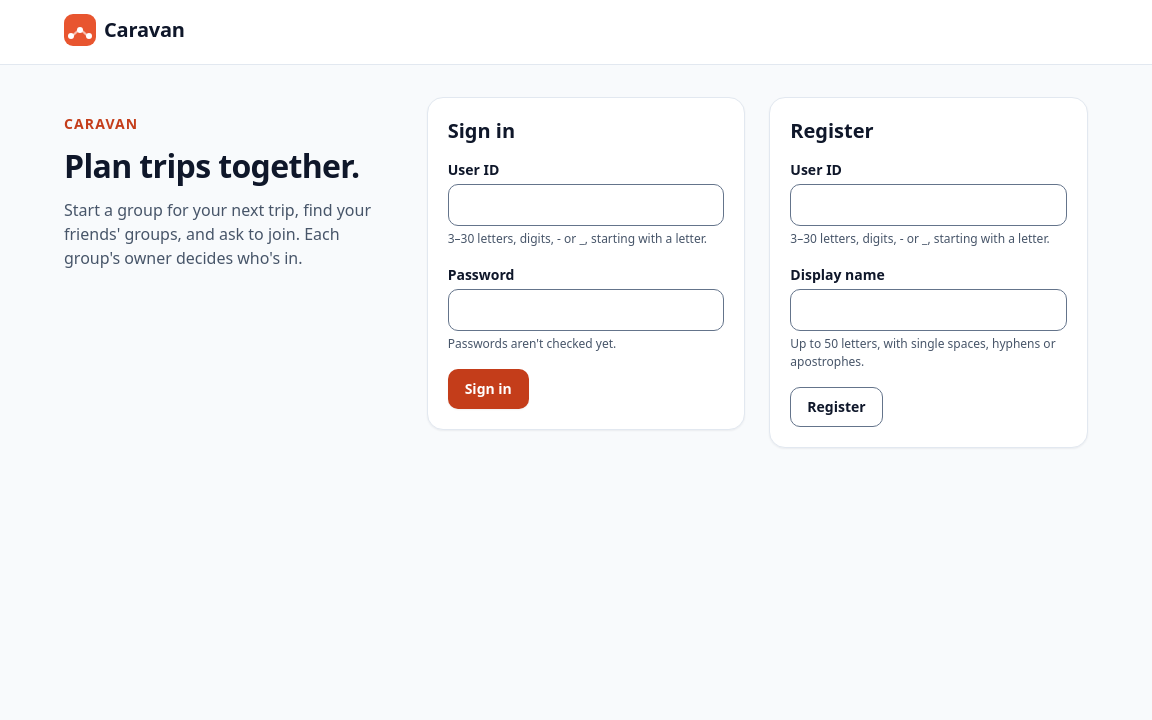
Test: registering › checks ada / R2D2 before sending
Expected: the heading "Sign in" is shown, [448, 117, 515, 144]
Type "ada" into the 2nd field labelled "User ID" at (929, 205), box [790, 184, 1067, 226]
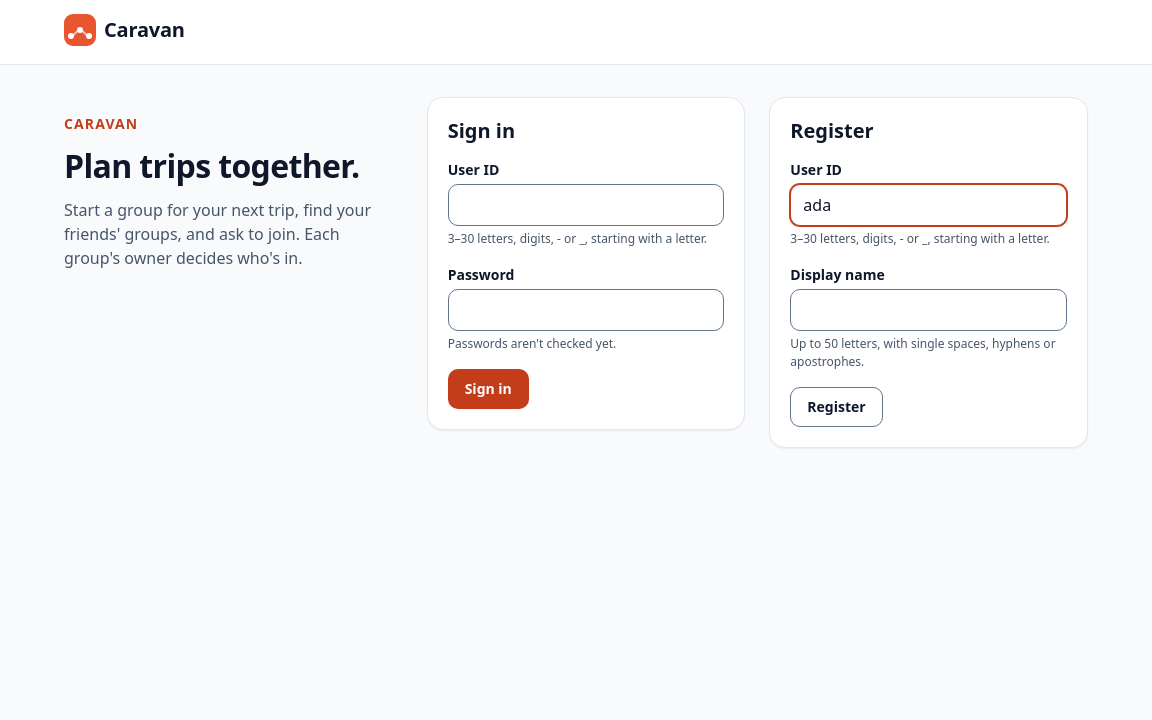
Type "R2D2" into the field labelled "Display name" at (929, 310), box [790, 289, 1067, 331]
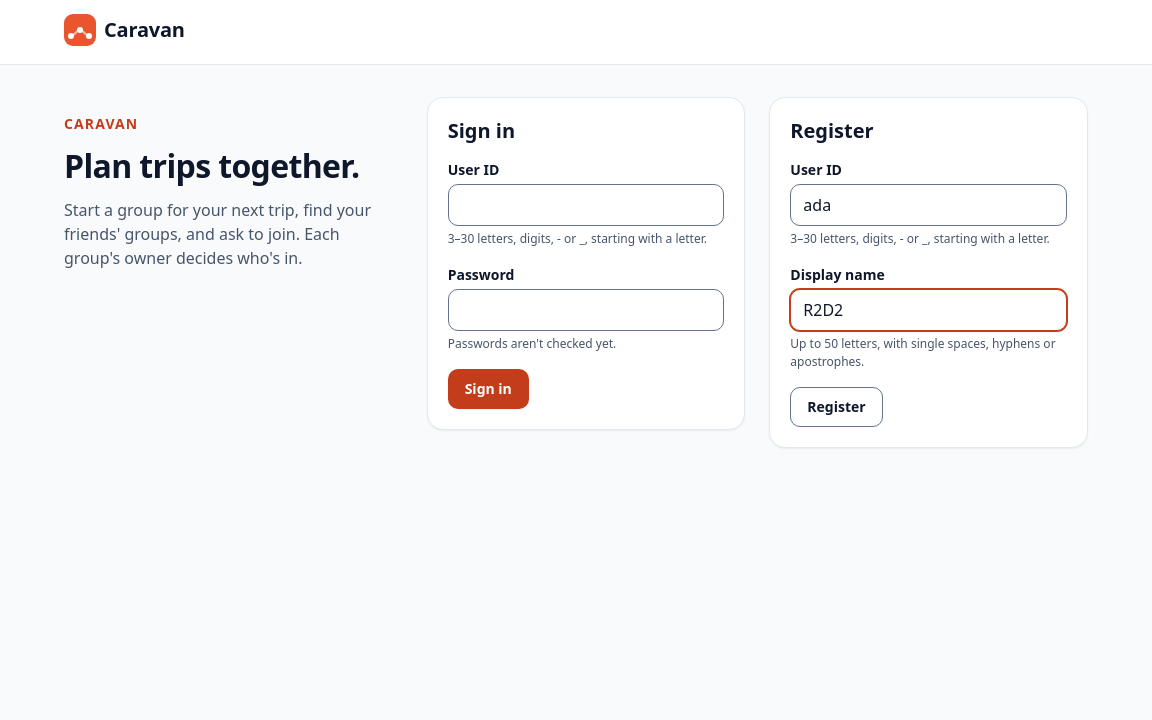
Click the button "Register" at (836, 407), box [790, 387, 883, 427]
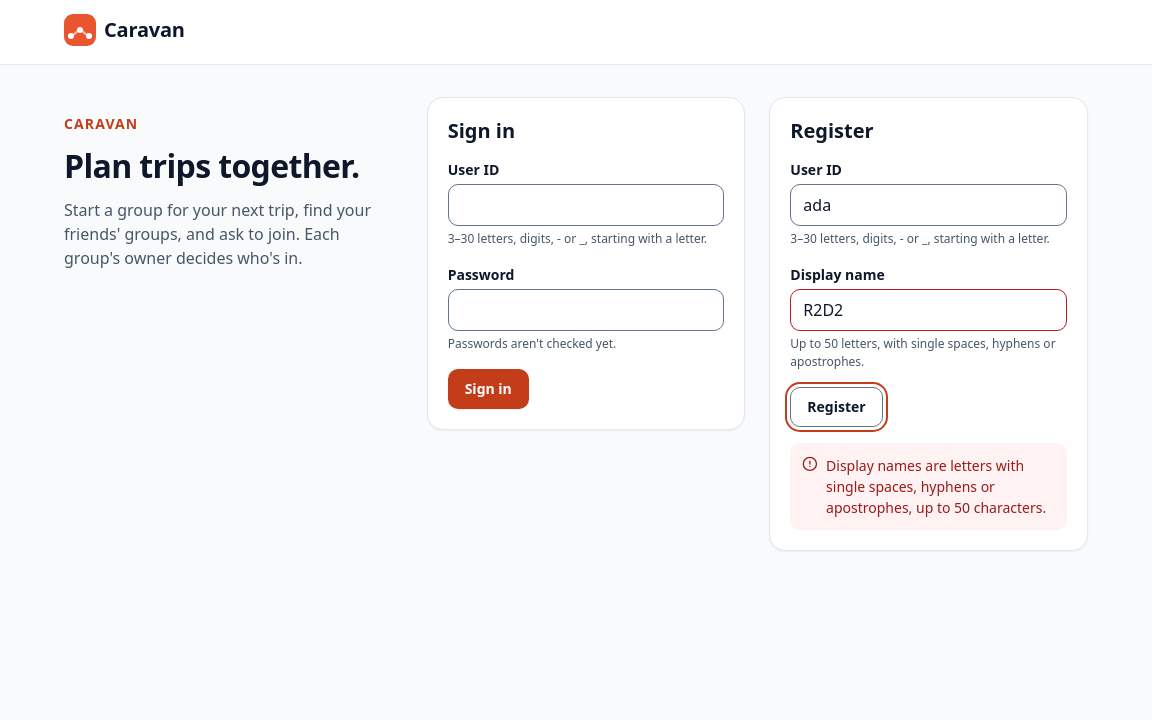
Expected: the message shows "Display names are letters", [826, 456, 1046, 517]
